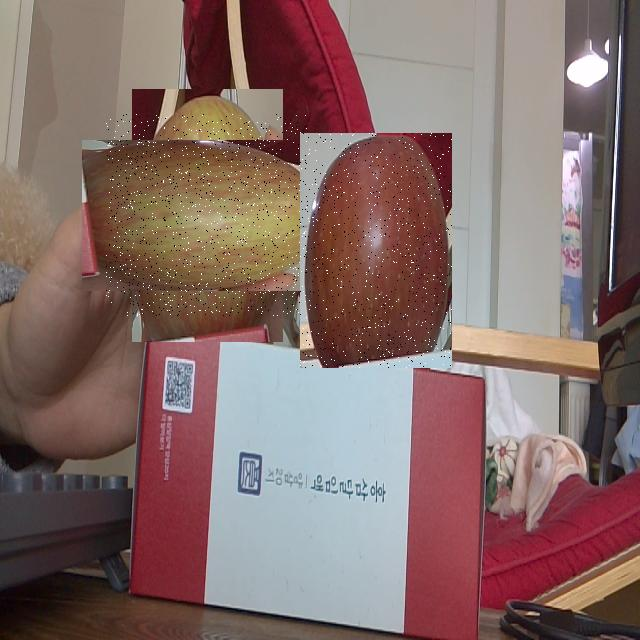apple: (106, 115, 308, 316), (300, 133, 452, 368)
